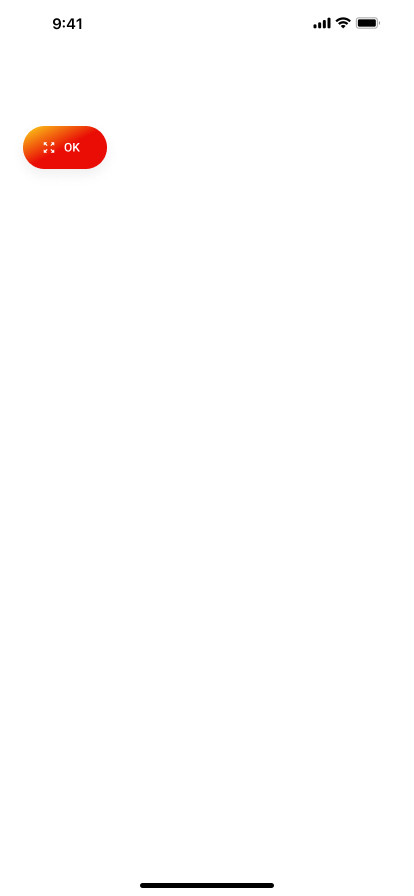Buttons: (8, 117, 122, 190)
Home Indicator: (0, 862, 414, 896)
Status Bar: (0, 0, 414, 44)
